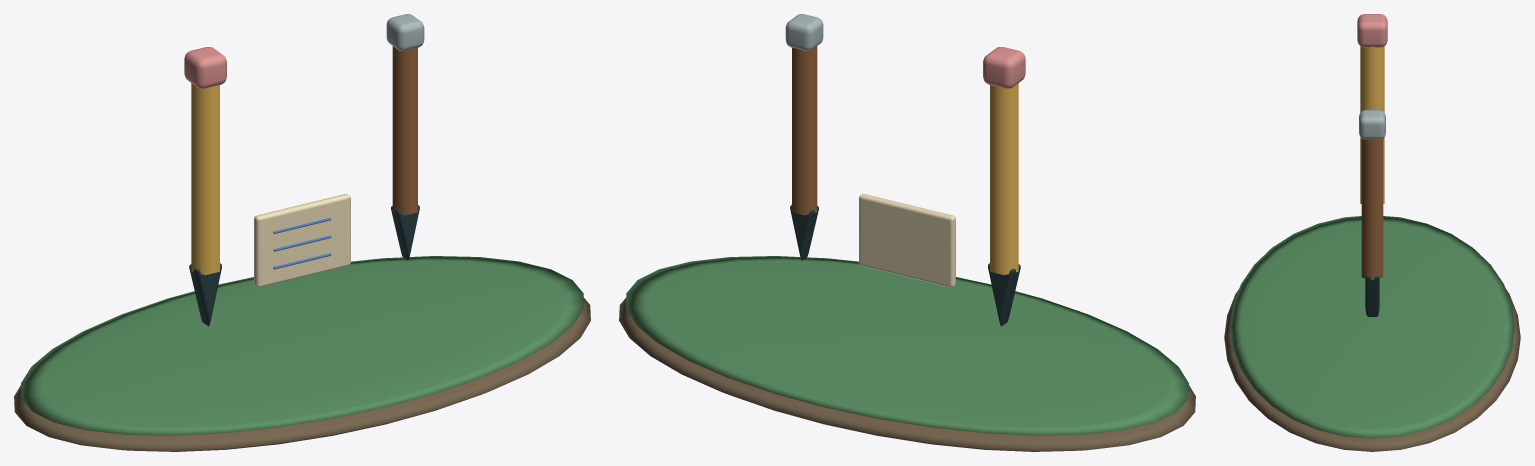
The model's file is writing-pencil.glb.
3 views of the same model, side by side, from view 1: azimuth 30°, elevation 25°; view 2: azimuth 150°, elevation 25°; view 3: azimuth 270°, elevation 25° (orthographic). The views are drawn at different scales.
Visible parts, largest first — view 1: writing-pencil_surface_01, writing-pencil_surface_00, writing-pencil_surface_07, writing-pencil_surface_02, writing-pencil_surface_05, writing-pencil_surface_03, writing-pencil_surface_04, writing-pencil_surface_06, writing-pencil_surface_08; view 2: writing-pencil_surface_01, writing-pencil_surface_00, writing-pencil_surface_07, writing-pencil_surface_02, writing-pencil_surface_05, writing-pencil_surface_03, writing-pencil_surface_04, writing-pencil_surface_06; view 3: writing-pencil_surface_01, writing-pencil_surface_00, writing-pencil_surface_05, writing-pencil_surface_02, writing-pencil_surface_04, writing-pencil_surface_06, writing-pencil_surface_03.
Part boxes in pixels (left/top/right/bottom): writing-pencil_surface_01: left=21, top=256, right=583, bottom=435; writing-pencil_surface_00: left=14, top=297, right=590, bottom=451; writing-pencil_surface_07: left=254, top=194, right=350, bottom=287; writing-pencil_surface_02: left=191, top=83, right=219, bottom=275; writing-pencil_surface_05: left=392, top=46, right=417, bottom=215; writing-pencil_surface_03: left=189, top=205, right=419, bottom=326; writing-pencil_surface_04: left=184, top=47, right=226, bottom=88; writing-pencil_surface_06: left=386, top=14, right=424, bottom=50; writing-pencil_surface_08: left=273, top=218, right=331, bottom=269; writing-pencil_surface_01: left=626, top=256, right=1188, bottom=435; writing-pencil_surface_00: left=619, top=297, right=1195, bottom=451; writing-pencil_surface_07: left=859, top=194, right=955, bottom=287; writing-pencil_surface_02: left=990, top=83, right=1018, bottom=275; writing-pencil_surface_05: left=792, top=46, right=817, bottom=215; writing-pencil_surface_03: left=790, top=205, right=1020, bottom=326; writing-pencil_surface_04: left=983, top=47, right=1025, bottom=88; writing-pencil_surface_06: left=785, top=14, right=823, bottom=50; writing-pencil_surface_01: left=1230, top=216, right=1514, bottom=438; writing-pencil_surface_00: left=1224, top=289, right=1520, bottom=451; writing-pencil_surface_05: left=1361, top=138, right=1383, bottom=279; writing-pencil_surface_02: left=1360, top=46, right=1384, bottom=203; writing-pencil_surface_04: left=1357, top=14, right=1387, bottom=47; writing-pencil_surface_06: left=1359, top=110, right=1385, bottom=139; writing-pencil_surface_03: left=1365, top=276, right=1379, bottom=316.
Size of the model in its own units: 4.56 by 2.73 by 2.5.
